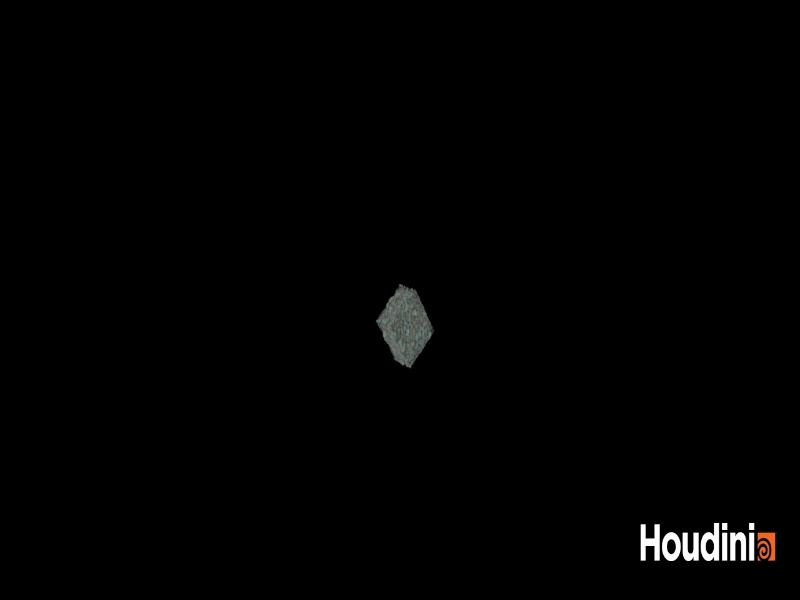waste: (367, 272, 442, 379)
